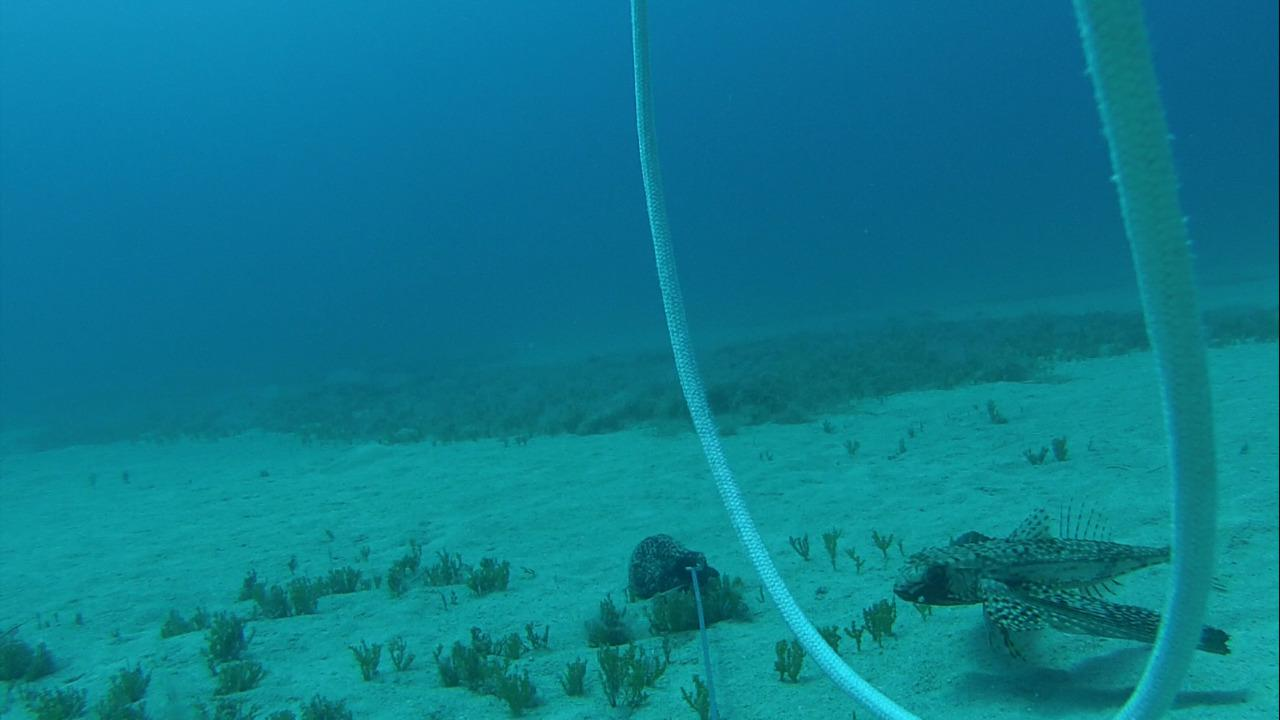dactylopterus: (891, 494, 1236, 663)
